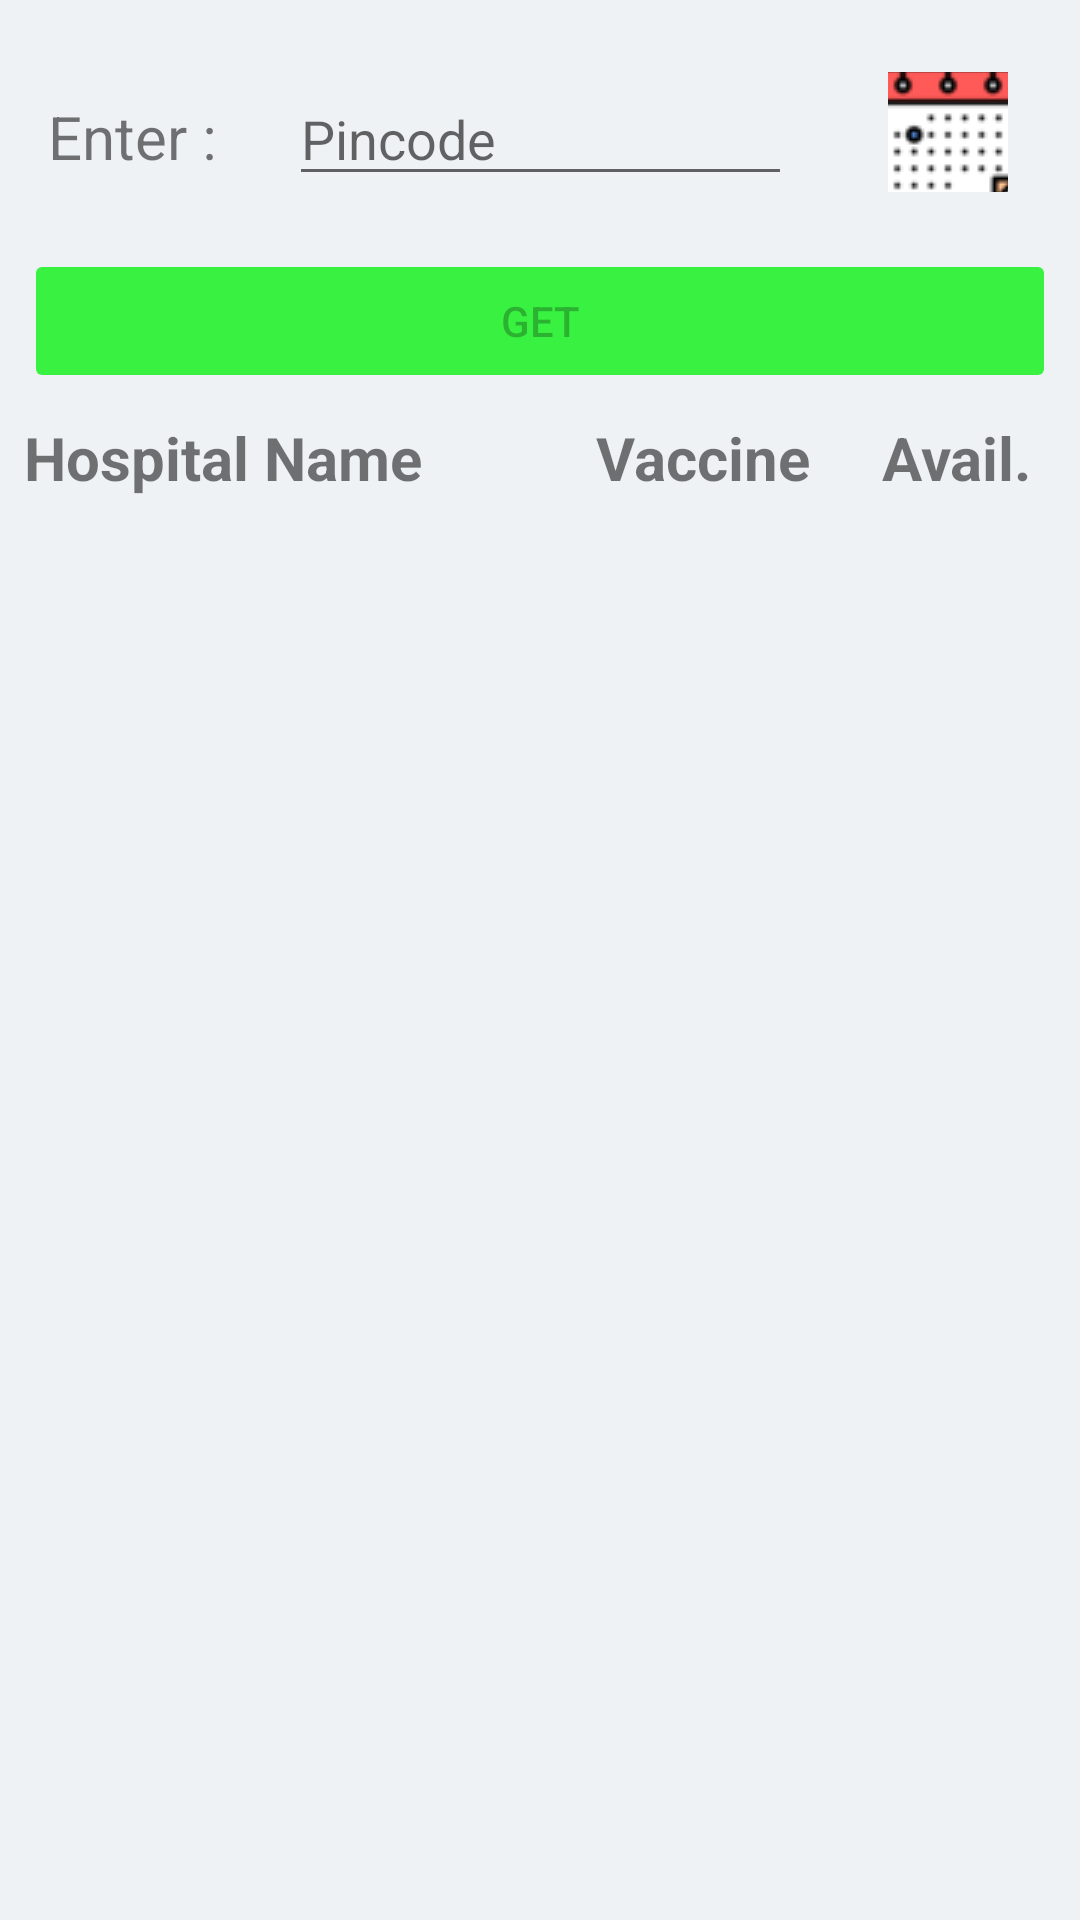

Locate icon controls on the screen. Image size 1080w x 1920h, boxes as (x1, y1, x2, y2).
calendar: (888, 72, 1008, 192)
